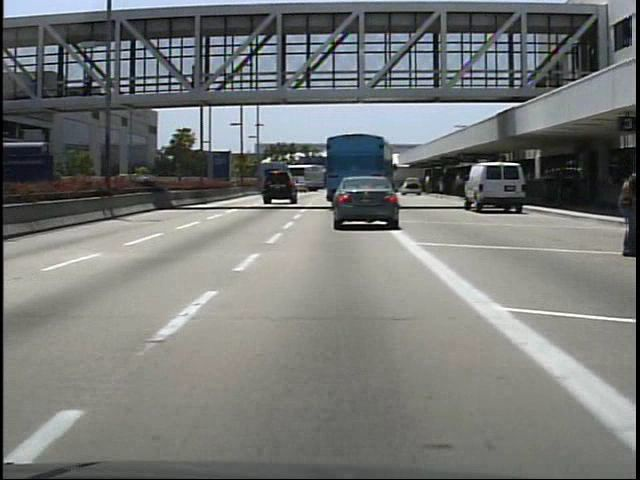person: (553, 166, 575, 208), (187, 64, 204, 99), (84, 67, 100, 97), (455, 171, 468, 197)
